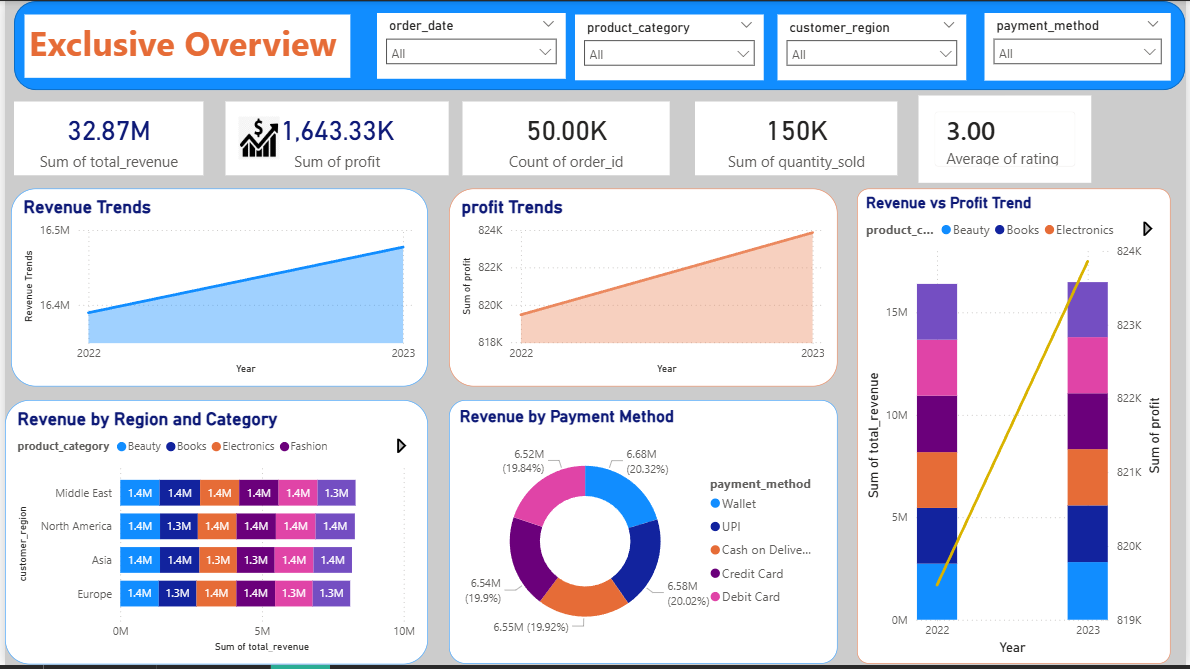

This screenshot's page, from the dashboard's own definition file:
{"tool":"powerbi","page":{"name":"Page 1","canvas":[1280,720],"ordinal":0},"visuals":[{"type":"shape","box":[10,0,1270,96.7],"z":0},{"type":"textbox","box":[21.7,15,353.3,68.3],"z":1000},{"type":"card","fields":{"Values":["Sum(Amazon_dataset.total_revenue)"]},"box":[10,108.3,205,80],"z":2000},{"type":"card","fields":{"Values":["Sum(Amazon_dataset.profit)"]},"box":[238.3,108.3,241.7,80],"z":3000},{"type":"image","box":[250,125,50,46.7],"z":4000},{"type":"card","fields":{"Values":["CountNonNull(Amazon_dataset.order_id)"]},"box":[496.1,109,224.5,79.7],"z":5000},{"type":"card","fields":{"Values":["Sum(Amazon_dataset.quantity_sold)"]},"box":[748.2,109,219.6,79.7],"z":6000},{"type":"slicer","fields":{"Values":["Amazon_dataset.order_date"]},"box":[403.4,13,204.9,71.6],"z":7000},{"type":"slicer","fields":{"Values":["Amazon_dataset.product_category"]},"box":[618.1,14.6,204.9,71.6],"z":8000},{"type":"slicer","fields":{"Values":["Amazon_dataset.customer_region"]},"box":[837.7,14.6,204.9,71.6],"z":9000},{"type":"areaChart","title":"Revenue Trends","fields":{"Category":["Amazon_dataset.order_date.Variation.Date Hierarchy.Year","Amazon_dataset.order_date.Variation.Date Hierarchy.Quarter","Amazon_dataset.order_date.Variation.Date Hierarchy.Month","Amazon_dataset.order_date.Variation.Date Hierarchy.Day"],"Y":["Sum(Amazon_dataset.total_revenue)"]},"box":[6.5,203.3,452.2,214.7],"z":10000},{"type":"stackedAreaChart","title":"profit Trends","fields":{"Category":["Amazon_dataset.order_date.Variation.Date Hierarchy.Year","Amazon_dataset.order_date.Variation.Date Hierarchy.Quarter","Amazon_dataset.order_date.Variation.Date Hierarchy.Month","Amazon_dataset.order_date.Variation.Date Hierarchy.Day"],"Y":["Sum(Amazon_dataset.profit)"]},"box":[481.5,203.3,421.3,214.7],"z":11000},{"type":"barChart","title":"Revenue by Region and Category","fields":{"Category":["Amazon_dataset.customer_region"],"Series":["Amazon_dataset.product_category"],"Y":["Sum(Amazon_dataset.total_revenue)"]},"box":[0,433.3,458.3,286.7],"z":12000},{"type":"donutChart","title":"Revenue by Payment Method","fields":{"Category":["Amazon_dataset.payment_method"],"Y":["Sum(Amazon_dataset.total_revenue)"]},"box":[481.5,432.7,421.3,286.3],"z":13000},{"type":"lineStackedColumnComboChart","title":"Revenue vs Profit Trend","fields":{"Category":["Amazon_dataset.order_date.Variation.Date Hierarchy.Year","Amazon_dataset.order_date.Variation.Date Hierarchy.Quarter","Amazon_dataset.order_date.Variation.Date Hierarchy.Month","Amazon_dataset.order_date.Variation.Date Hierarchy.Day"],"Y":["Sum(Amazon_dataset.total_revenue)"],"Series":["Amazon_dataset.product_category"],"Y2":["Sum(Amazon_dataset.profit)"]},"box":[923.9,203.3,339.9,515.6],"z":14000},{"type":"cardVisual","fields":{"Data":["Avg(Amazon_dataset.rating)"]},"box":[990.6,102.5,187.1,94.3],"z":15000},{"type":"slicer","fields":{"Values":["Amazon_dataset.payment_method"]},"box":[1062.1,13,201.7,73.2],"z":15001}]}

Visuals, with their boxes in screenshot pixels (x1, y1, x2, y2), scaled from the page's 1280x720 canvas onto the 1190x669 screenshot:
shape: bbox=(9, 0, 1189, 90)
textbox: bbox=(20, 14, 349, 77)
card - Sum(Amazon_dataset.total_revenue): bbox=(9, 101, 200, 175)
card - Sum(Amazon_dataset.profit): bbox=(222, 101, 446, 175)
image: bbox=(232, 116, 279, 160)
card - CountNonNull(Amazon_dataset.order_id): bbox=(461, 101, 670, 175)
card - Sum(Amazon_dataset.quantity_sold): bbox=(696, 101, 900, 175)
slicer - Amazon_dataset.order_date: bbox=(375, 12, 566, 79)
slicer - Amazon_dataset.product_category: bbox=(575, 14, 765, 80)
slicer - Amazon_dataset.customer_region: bbox=(779, 14, 969, 80)
"Revenue Trends" areaChart: bbox=(6, 189, 426, 388)
"profit Trends" stackedAreaChart: bbox=(448, 189, 839, 388)
"Revenue by Region and Category" barChart: bbox=(0, 403, 426, 668)
"Revenue by Payment Method" donutChart: bbox=(448, 402, 839, 668)
"Revenue vs Profit Trend" lineStackedColumnComboChart: bbox=(859, 189, 1175, 668)
cardVisual - Avg(Amazon_dataset.rating): bbox=(921, 95, 1095, 183)
slicer - Amazon_dataset.payment_method: bbox=(987, 12, 1175, 80)
